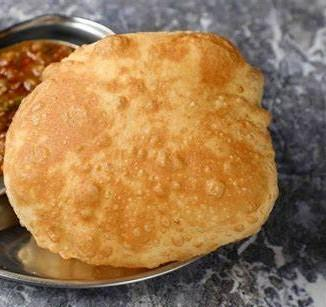Bhatura: (3, 31, 279, 265)
